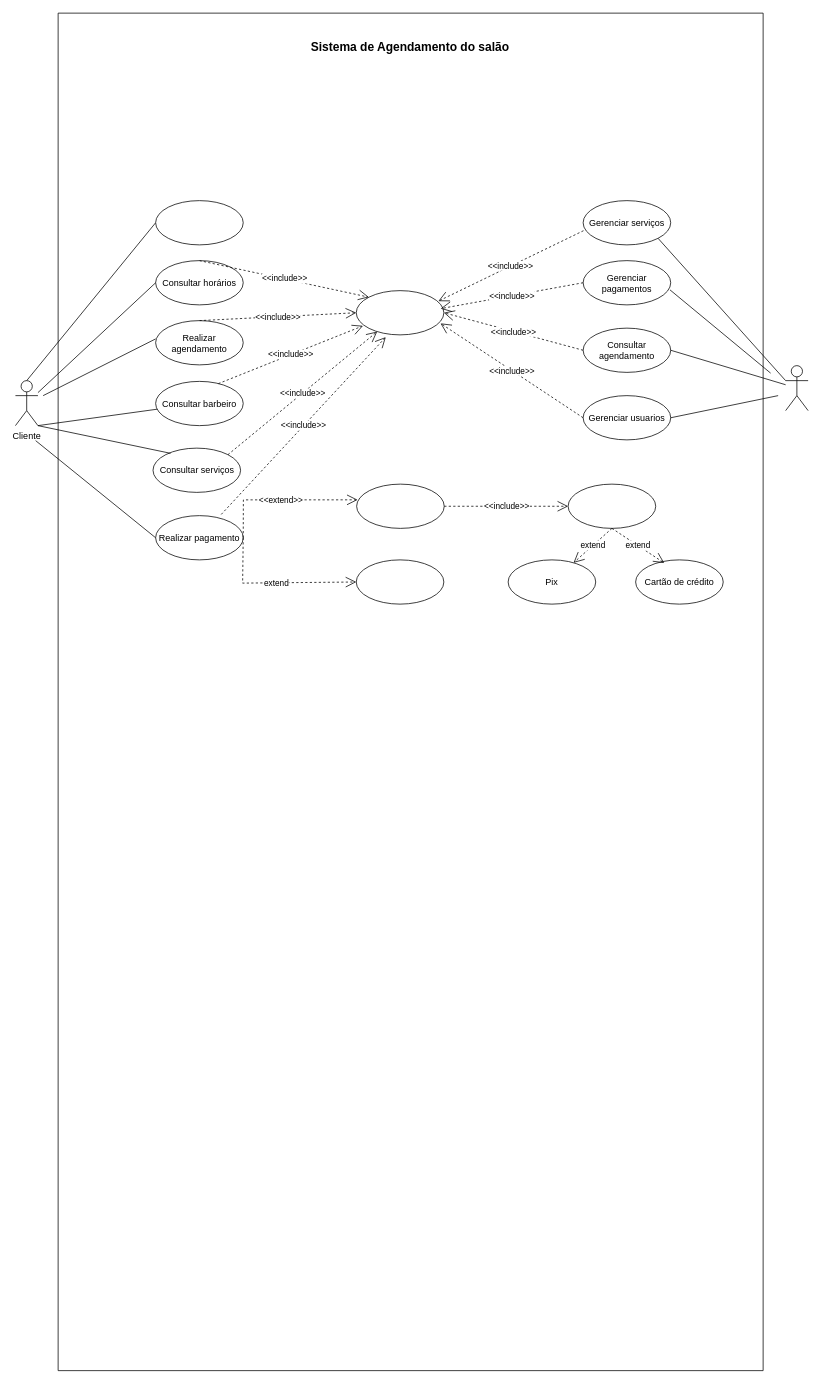
Image size: 838x1384. Some labels were removed from this diagram. The shapes that lost their labels are listed below. From the top down, each one's centre as x and y in pixels, then its label:
point 199,222: Cadastrar no aplicativo
point 400,312: Fazer login no sistema
point 796,388: Administrador
point 400,505: Pagar online
point 611,505: Sistema de pagamento online
point 400,581: Pagar presencial
